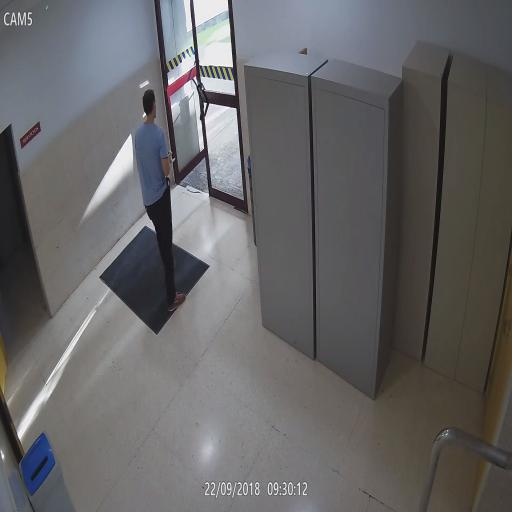Handgun: (167, 148, 174, 163)
